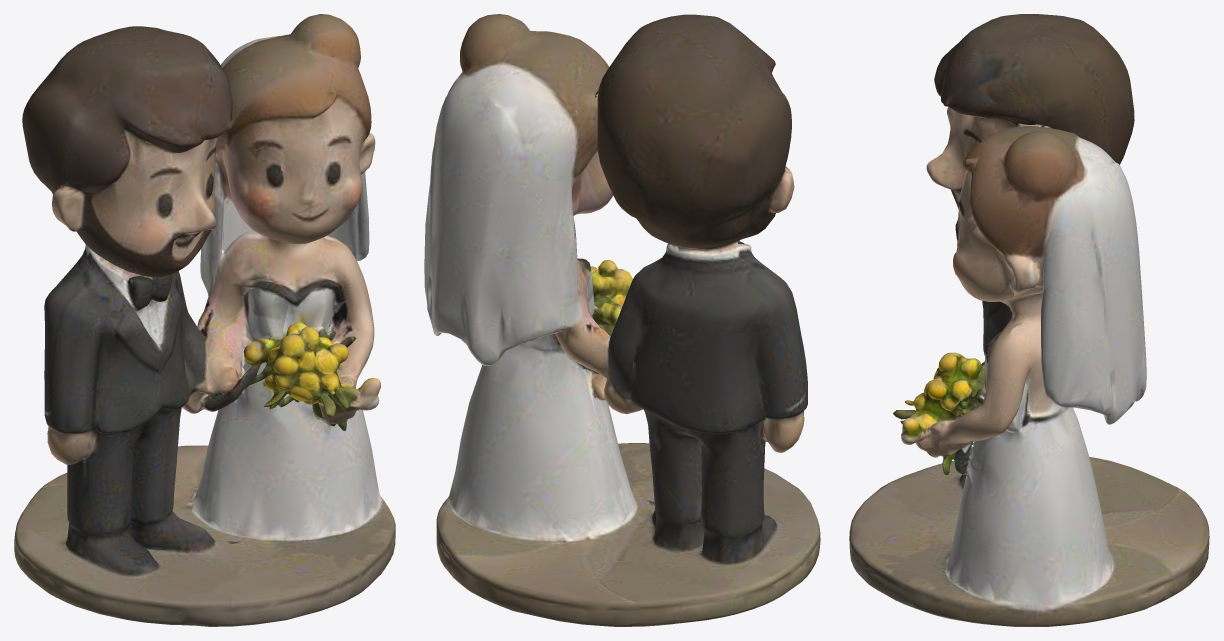
3 renders of one model, left to right at view 1: azimuth 30°, elevation 25°; view 2: azimuth 150°, elevation 25°; view 3: azimuth 270°, elevation 25°, orthographic. The views are drawn at different scales.
Size of the model in its own units: 1.37 by 1.99 by 1.3.
1 material, 1 textured.
